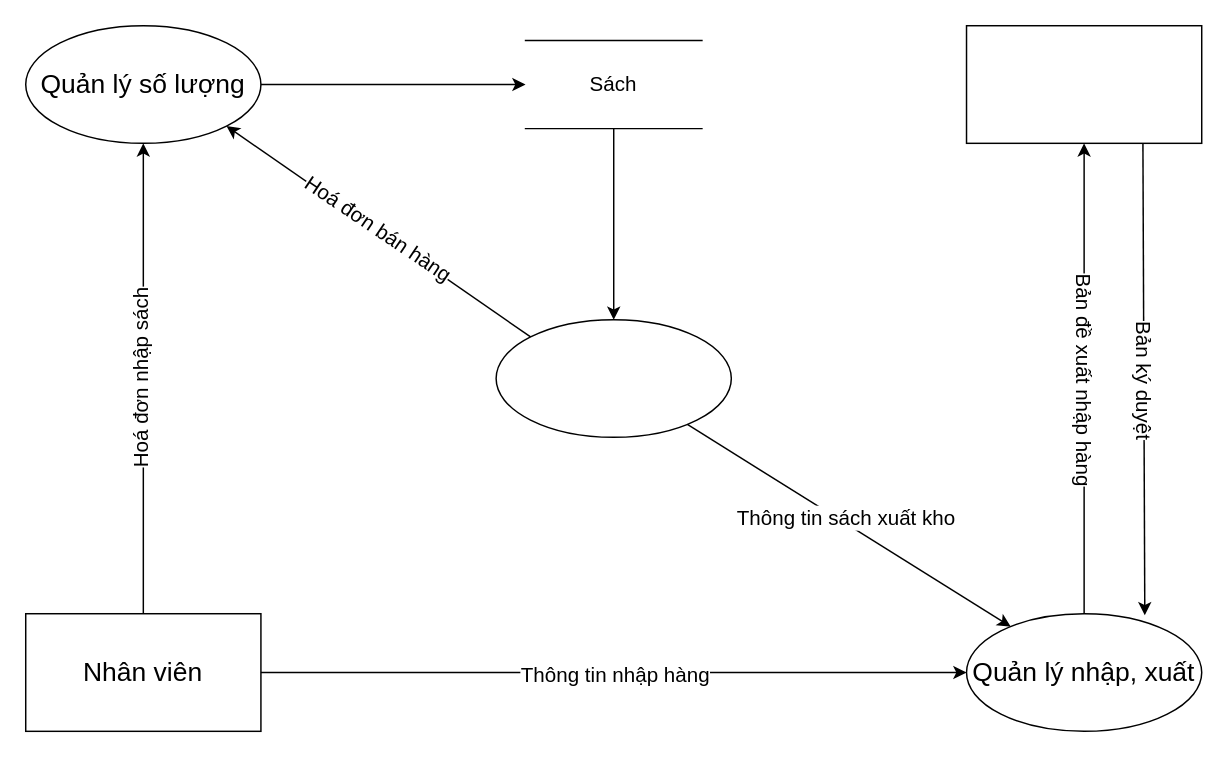
This 1227x757 diagram has some shape labels left out. Here are the shapes that lost their labels. From the top down, the centre of each, then its label:
[1083,83]: Người quản lý
[613,377]: Bán hàng
